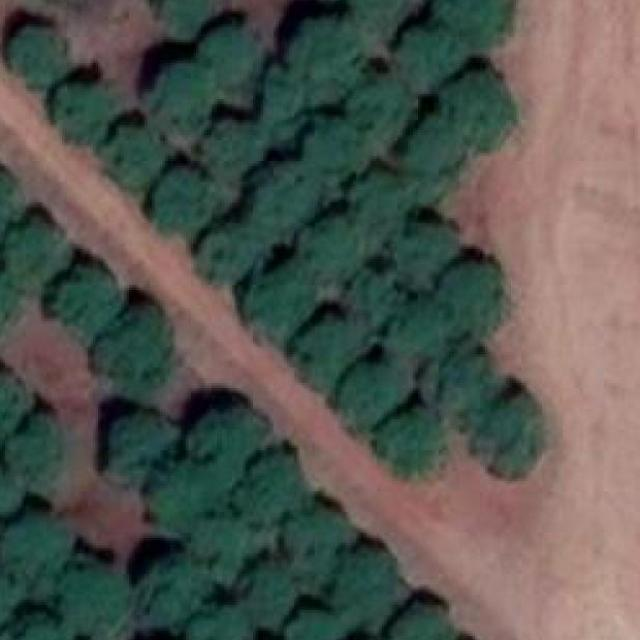Tree: (96, 306, 173, 388), (234, 448, 315, 525), (292, 19, 368, 92), (480, 390, 547, 471), (250, 159, 320, 236), (0, 515, 65, 591), (432, 347, 496, 419), (146, 164, 206, 240), (52, 262, 114, 335), (444, 73, 506, 146), (336, 545, 390, 626), (289, 316, 354, 383), (150, 460, 212, 530), (148, 60, 210, 130), (62, 566, 127, 632), (245, 268, 312, 332), (138, 556, 202, 622), (108, 412, 168, 479), (387, 304, 447, 371), (385, 406, 442, 476), (299, 215, 362, 278), (50, 82, 112, 146), (282, 512, 338, 582), (392, 27, 452, 92), (396, 221, 458, 283), (447, 264, 504, 330), (0, 223, 60, 285), (103, 127, 163, 187), (196, 226, 258, 283), (237, 562, 289, 628), (201, 27, 258, 87), (341, 362, 395, 424), (191, 412, 256, 463), (10, 27, 65, 87), (12, 414, 62, 479), (194, 517, 251, 574), (204, 120, 259, 177), (444, 0, 509, 45), (308, 120, 362, 171), (351, 270, 400, 326), (406, 120, 450, 180), (354, 176, 399, 234), (359, 76, 406, 131), (258, 76, 303, 128), (395, 603, 452, 640), (2, 610, 72, 640), (150, 0, 212, 32), (348, 0, 408, 32), (196, 607, 246, 640), (0, 372, 21, 438), (294, 607, 334, 640), (0, 274, 15, 336), (0, 569, 13, 640), (0, 173, 15, 233), (0, 465, 15, 525)
